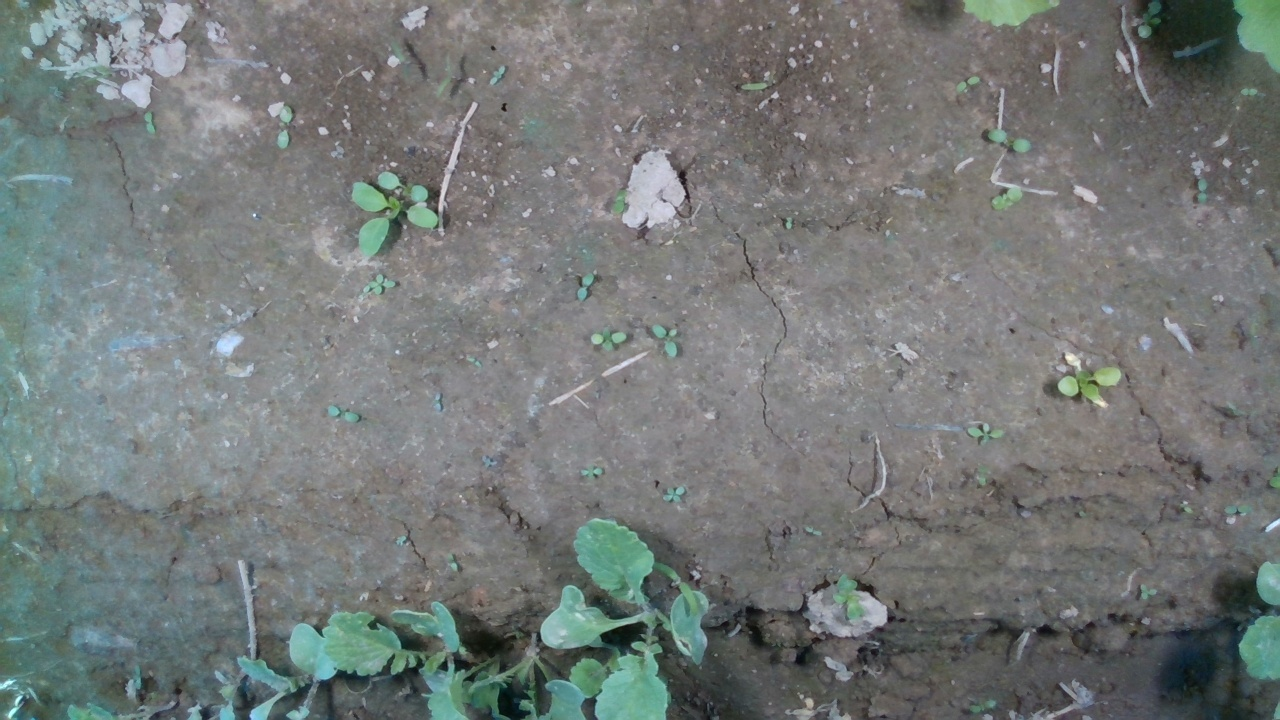weed: (1056, 365, 1122, 402), (985, 127, 1034, 155), (651, 323, 679, 358), (590, 326, 627, 352), (965, 424, 1006, 447), (990, 185, 1024, 212), (275, 103, 293, 149), (364, 273, 398, 296), (325, 404, 361, 422), (609, 187, 631, 216), (576, 271, 595, 302), (577, 462, 606, 479), (954, 76, 981, 93), (662, 485, 687, 503), (142, 109, 158, 134), (1137, 583, 1160, 600), (434, 389, 445, 413), (1224, 504, 1250, 513), (1176, 503, 1193, 514)
